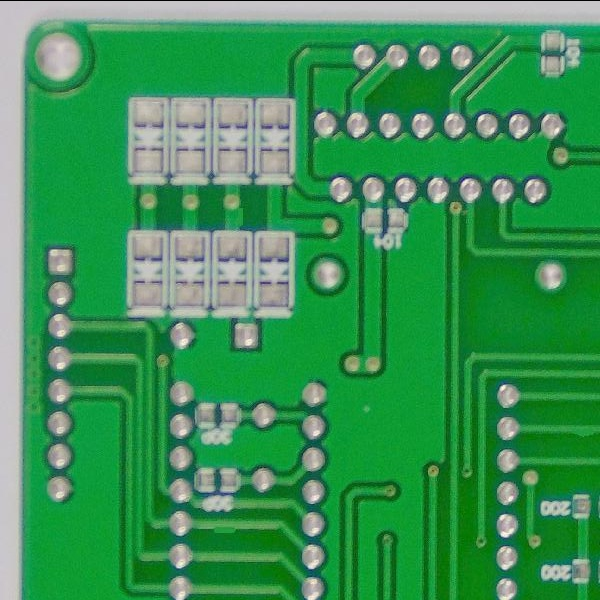spur: (223, 197, 250, 231), (568, 419, 597, 445), (209, 519, 241, 537)
